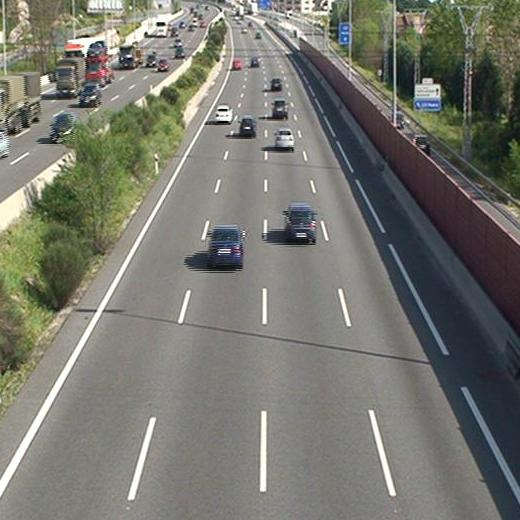car: (206, 226, 243, 266), (284, 204, 316, 240), (275, 128, 294, 148), (239, 117, 256, 135), (215, 105, 233, 121), (271, 100, 287, 116), (271, 79, 283, 91), (232, 59, 243, 71), (250, 56, 260, 68)
